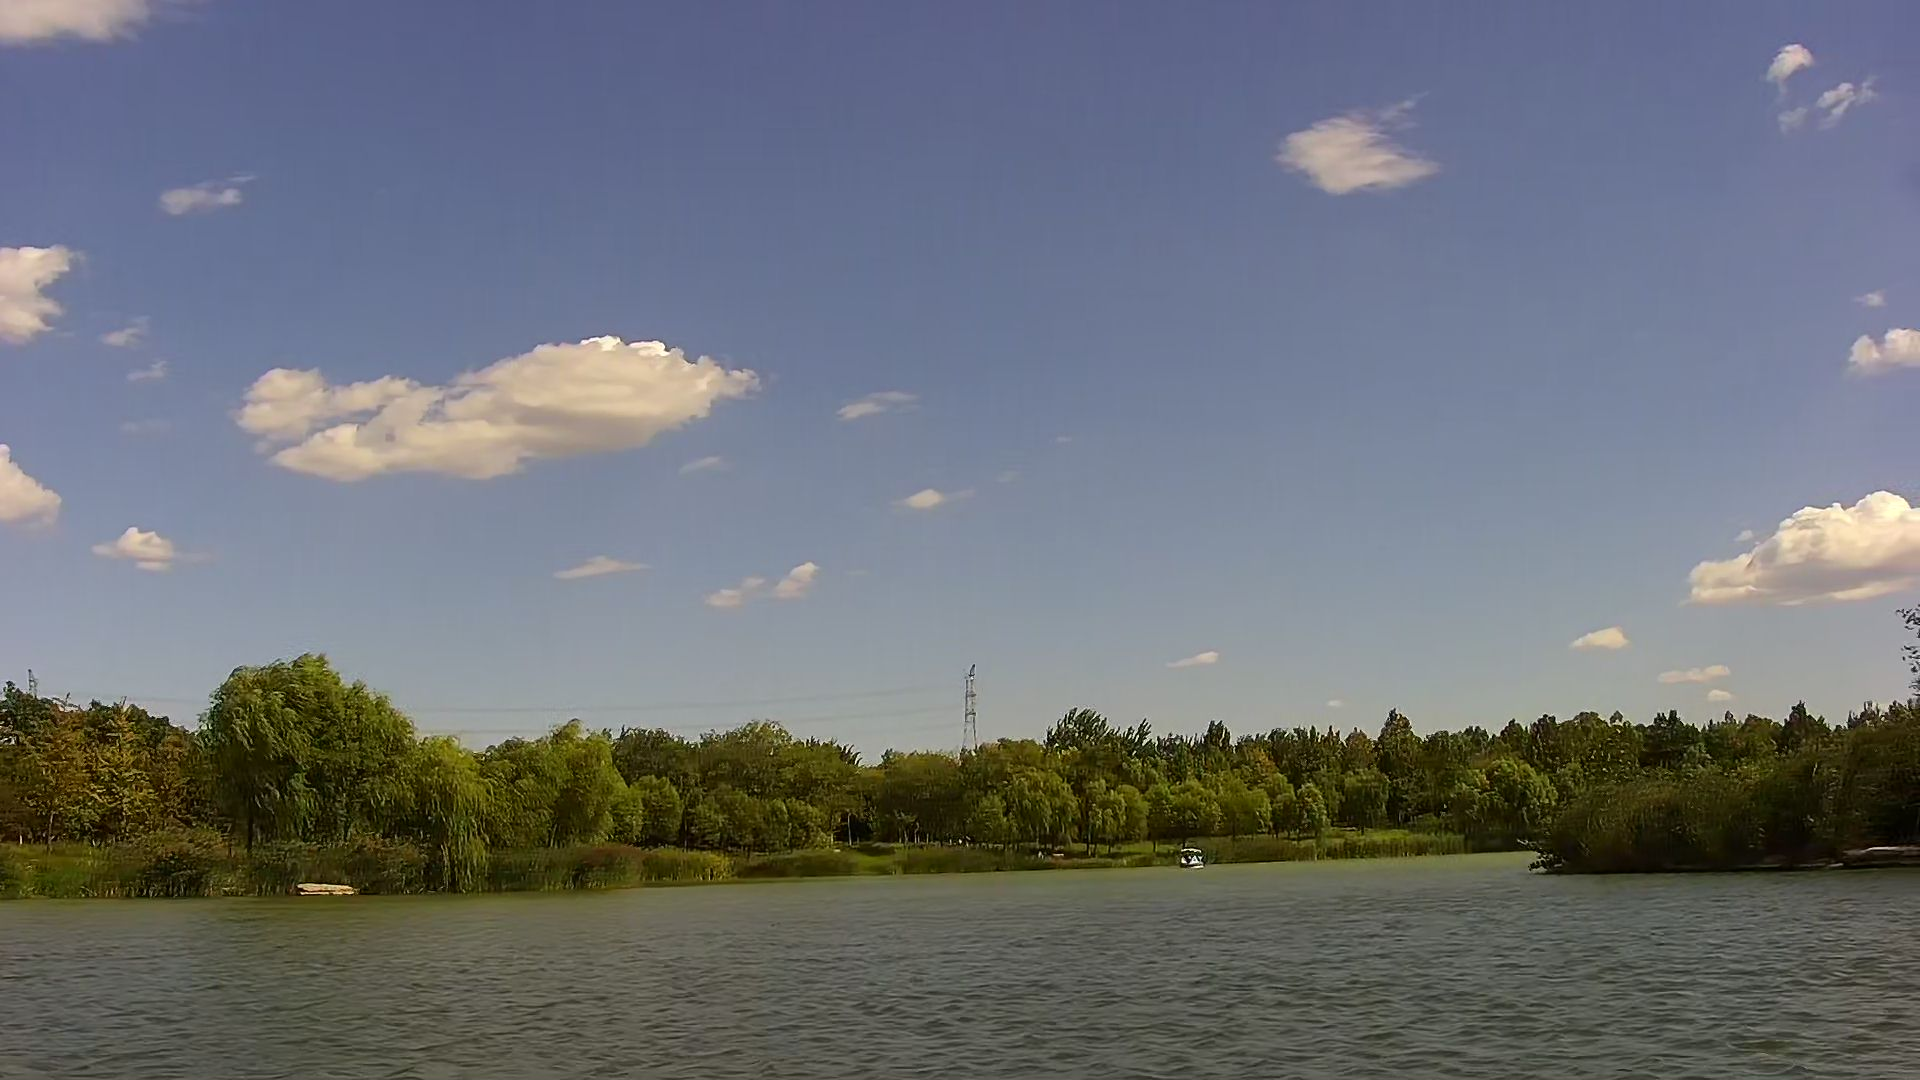boat: (1179, 845, 1197, 865)
rock: (297, 880, 351, 895)
